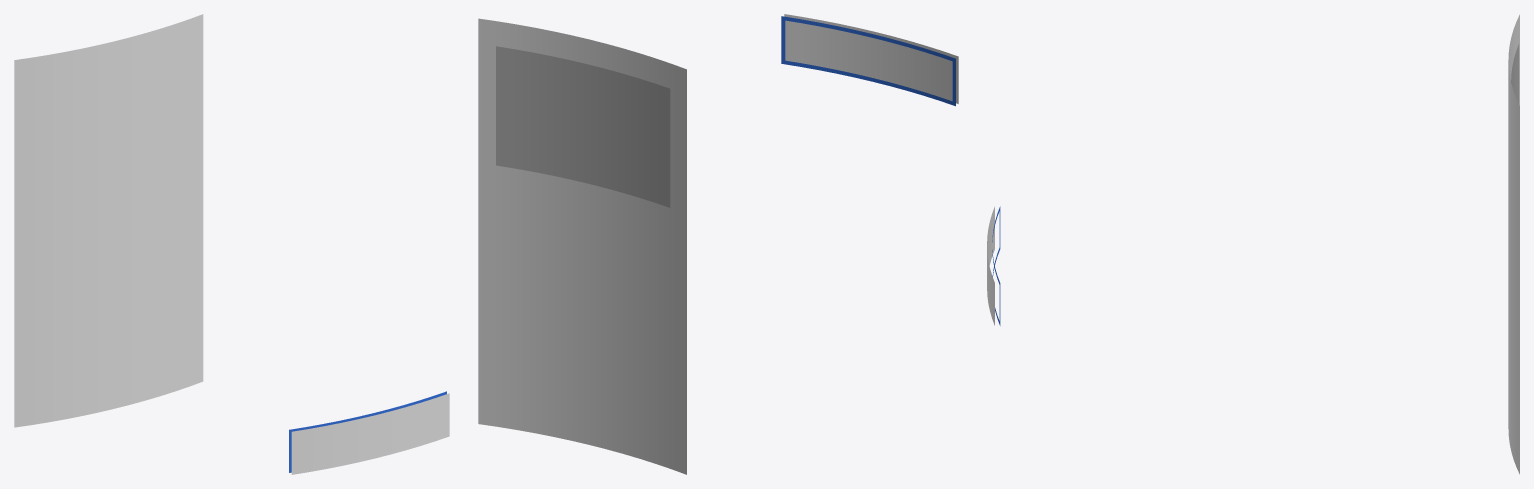
Rendered from ___side_panel_left_17x12.fbx.
The picture shows the model from 3 angles, left to right: view 1: azimuth 30°, elevation 25°; view 2: azimuth 150°, elevation 25°; view 3: azimuth 270°, elevation 25°; orthographic projection. The views are drawn at different scales.
Visible parts, largest first — view 1: ___side_panel_left_17x12, ___button_follow_10x2, ___frame; view 2: ___side_panel_left_17x12, ___thumb, ___button_follow_10x2, ___frame; view 3: ___side_panel_left_17x12, ___button_follow_10x2.
Boxes of the visible parts, box(x1,y1,x2,y2) form: ___side_panel_left_17x12: box(14, 14, 203, 427); ___button_follow_10x2: box(291, 393, 449, 474); ___frame: box(289, 391, 446, 472); ___side_panel_left_17x12: box(478, 18, 686, 474); ___thumb: box(496, 46, 670, 207); ___button_follow_10x2: box(784, 14, 958, 103); ___frame: box(781, 16, 955, 106); ___side_panel_left_17x12: box(1508, 14, 1519, 474); ___button_follow_10x2: box(987, 206, 994, 325).
Bounding box in the file's own units: 20.79 × 38.59 × 50.59.
